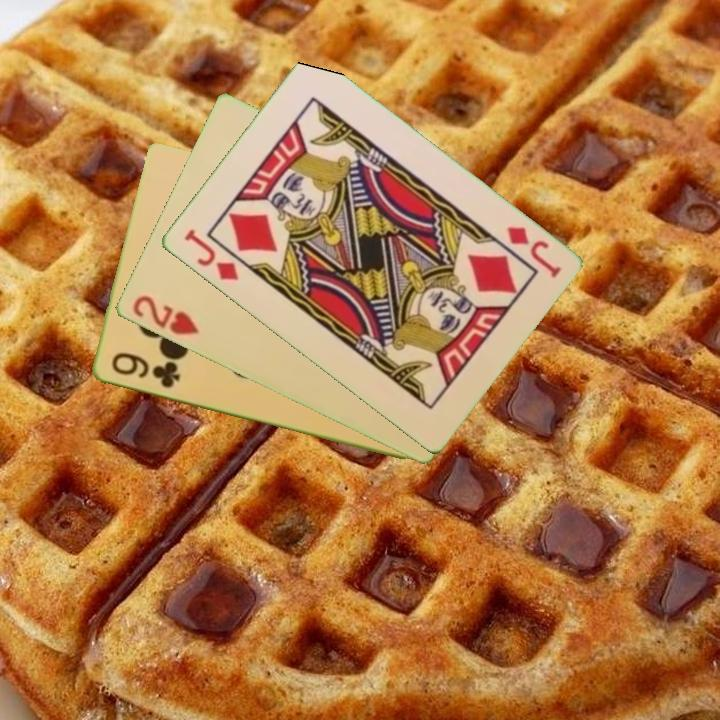2h: (128, 292, 202, 338)
9c: (107, 349, 182, 392)
Jd: (502, 222, 563, 282), (180, 225, 241, 284)
